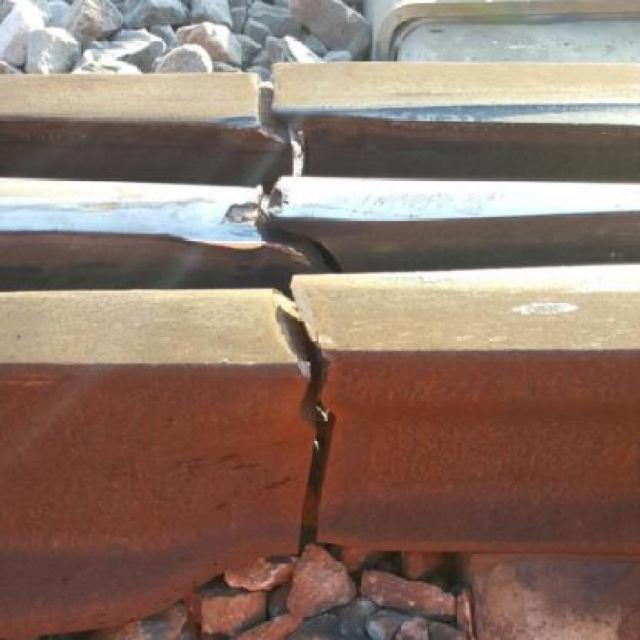defective: (7, 40, 640, 592)
